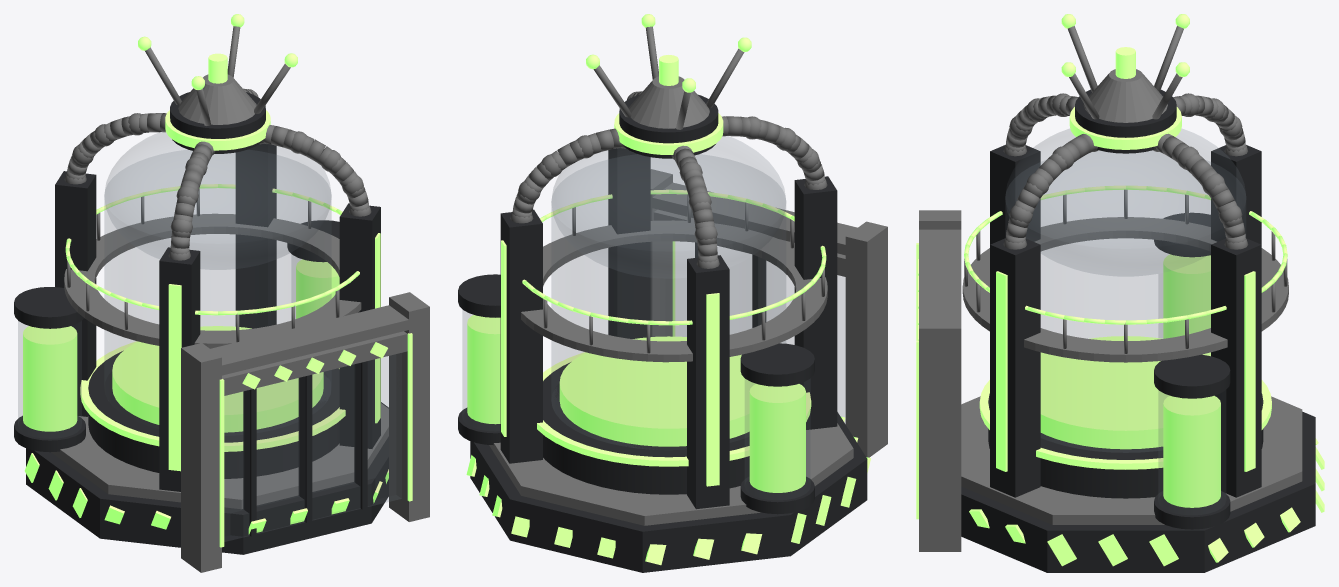
The model's file is MonsterVat_BLOOM.glb.
3 views of the same model, side by side, from view 1: azimuth 30°, elevation 25°; view 2: azimuth 150°, elevation 25°; view 3: azimuth 270°, elevation 25° (orthographic). The views are drawn at different scales.
Visible parts, largest first — view 1: MonsterVat_BLOOM, MonsterVat_BLOOM_Gate; view 2: MonsterVat_BLOOM, MonsterVat_BLOOM_Gate; view 3: MonsterVat_BLOOM.
Boxes of the visible parts, <box> form: MonsterVat_BLOOM: <box>14,14,429,572</box>; MonsterVat_BLOOM_Gate: <box>222,331,407,541</box>; MonsterVat_BLOOM: <box>458,14,887,572</box>; MonsterVat_BLOOM_Gate: <box>653,209,845,422</box>; MonsterVat_BLOOM: <box>916,14,1324,572</box>.
Size of the model in its own units: 4.84 by 5.9 by 4.81.
